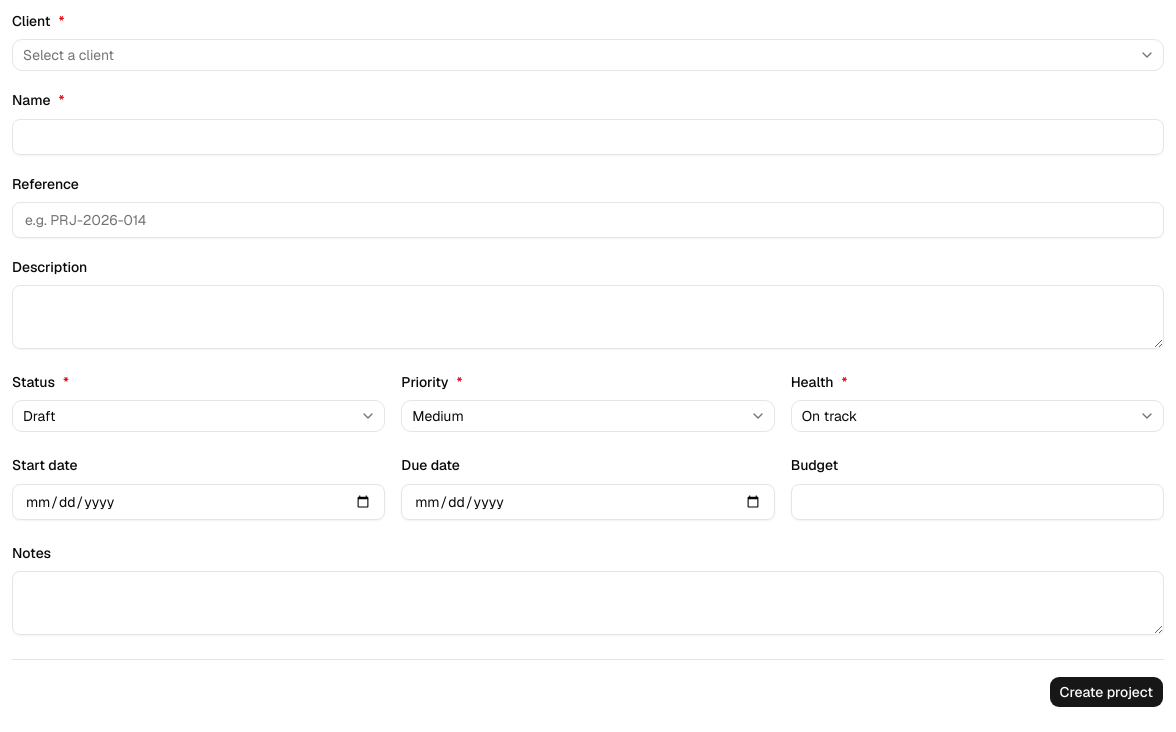
Scenario: ProjectForm (create mode) › shows zod errors when required fields are empty on submit
The width and height of the screenshot is (1176, 732).
Click the button "Create project".
click(1106, 692)  # box [1049,676,1164,708]
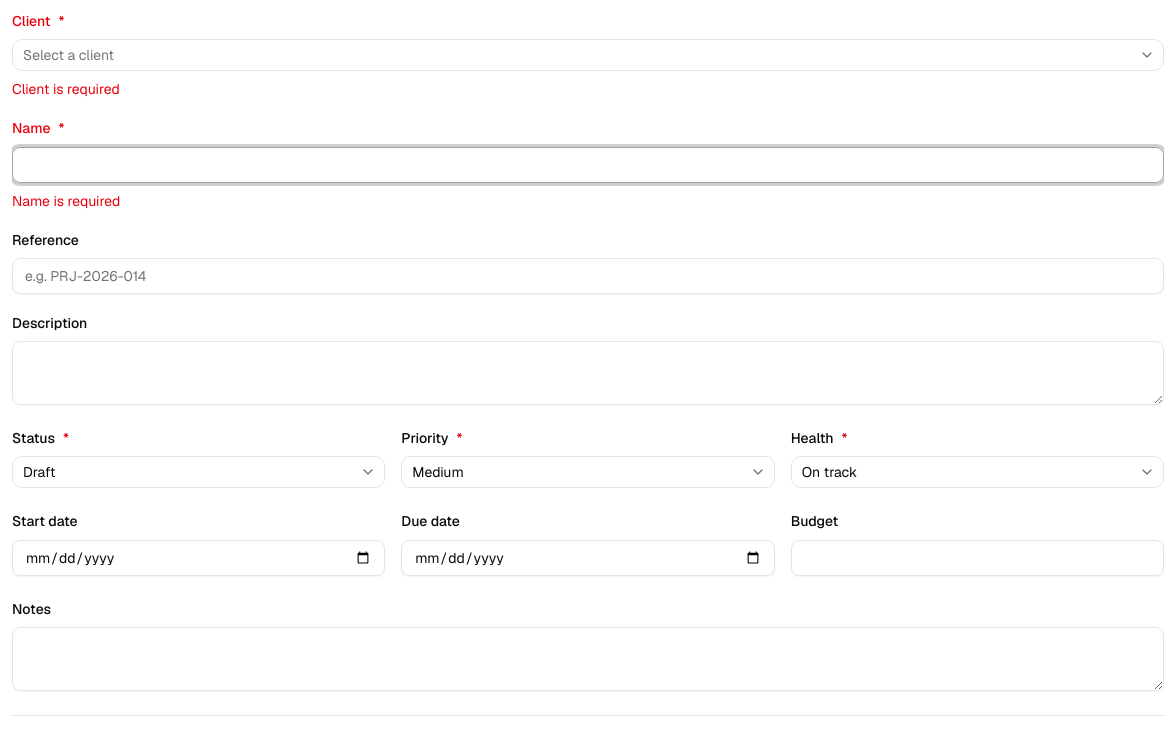
Now the text "Name is required" is shown, box [12,192,120,210]
Now the text "Client is required" is shown, box [12,80,120,98]
